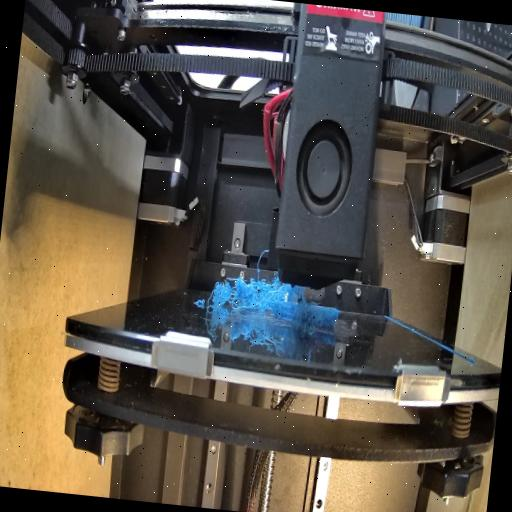spaghetti: (208, 273, 290, 316), (284, 290, 322, 335)
